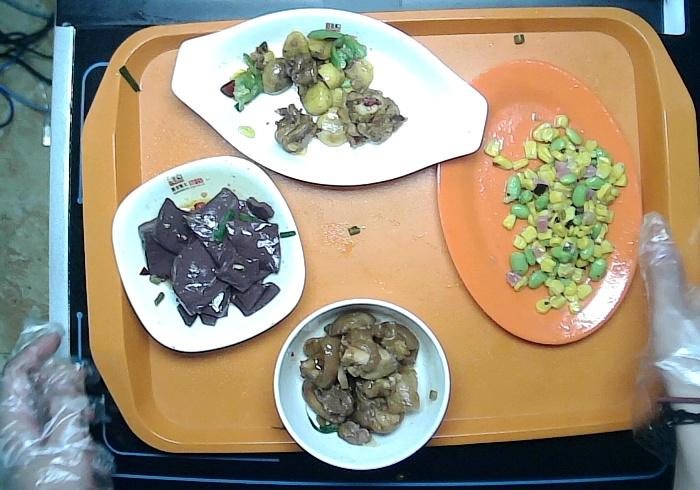NLDX-Bai_Se_Xiao_Fang_Die: (105, 147, 313, 360)
NLDX-Fan_Wan: (263, 291, 457, 476)
NLDX-Ju_Se_Pan: (425, 51, 649, 355)
NLDX-Yu_Pan: (160, 2, 496, 200)
